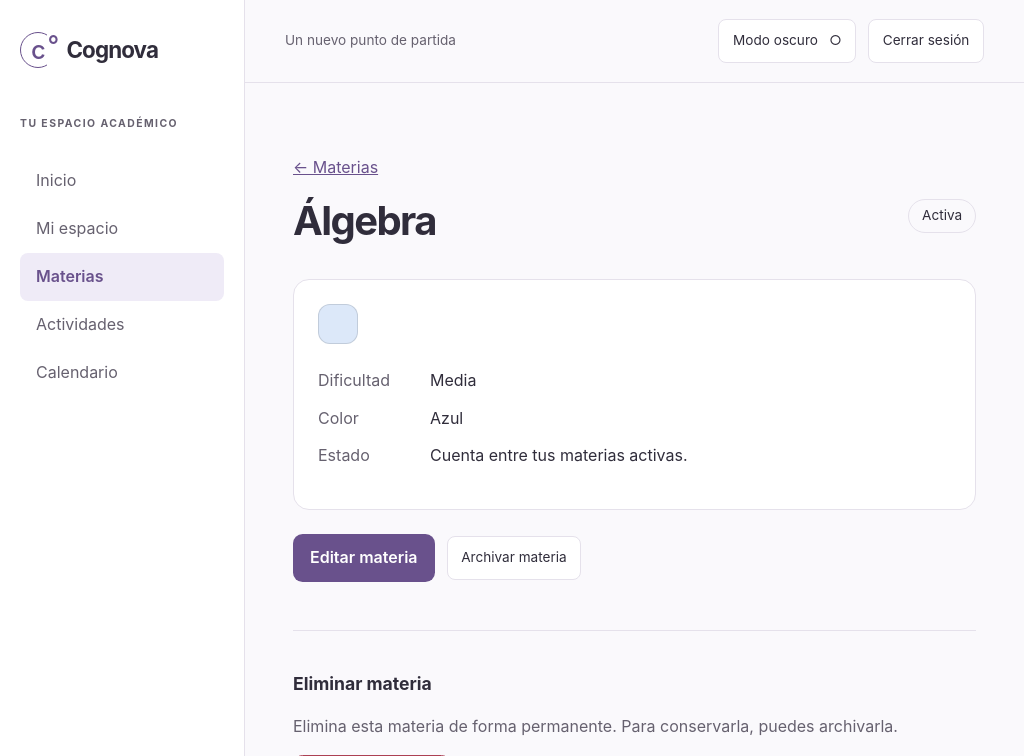
Test case: Subjects routes and state › edits, archives and reactivates from a direct detail route
The image size is (1024, 756).
Click the button "Editar materia".
click(364, 558)  # box [293,534,434,582]
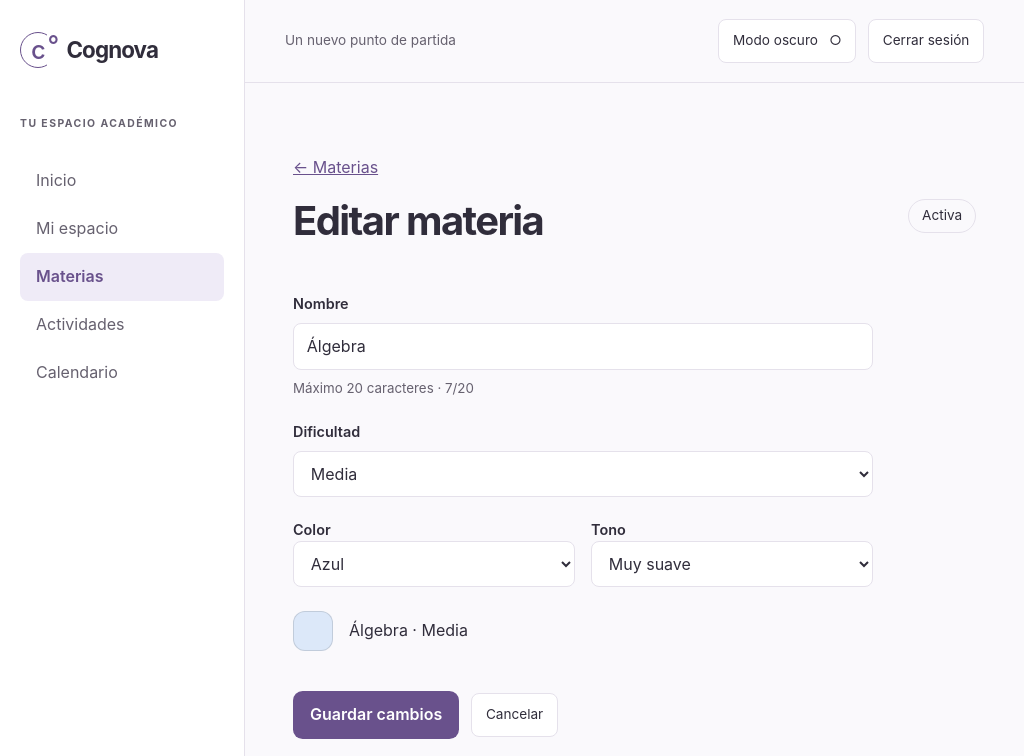
Replace the text in the field labelled "Nombre" with "Cálculo" at (583, 347), box [293,323,873,370]
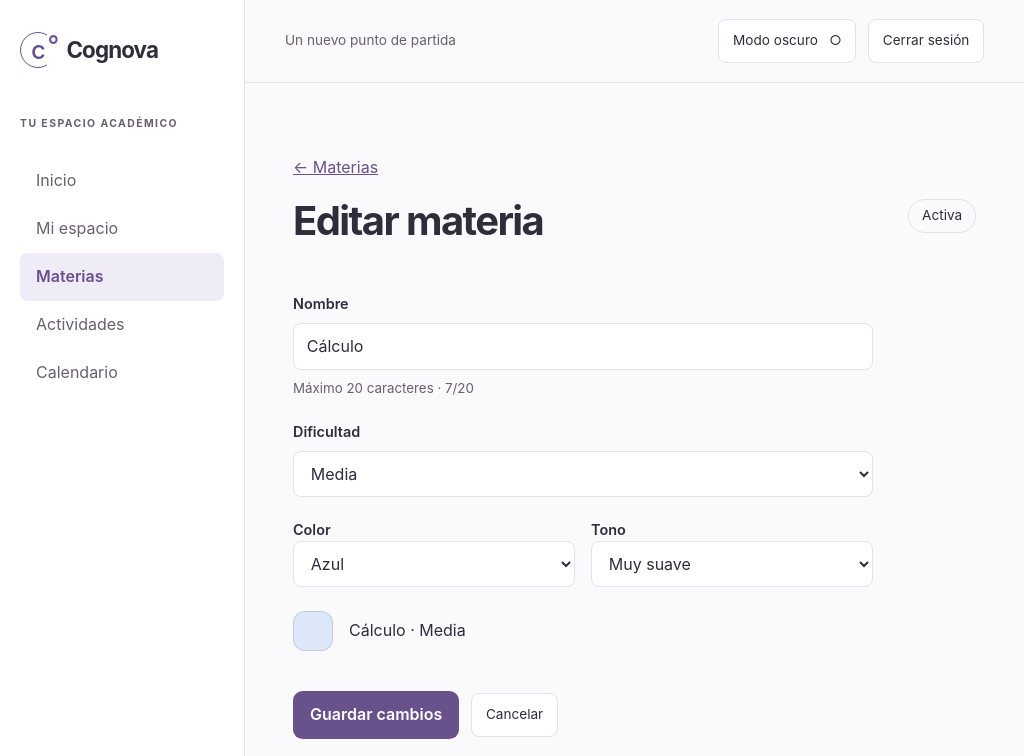
Click the button "Guardar cambios".
click(376, 715)  # box [293,691,459,739]
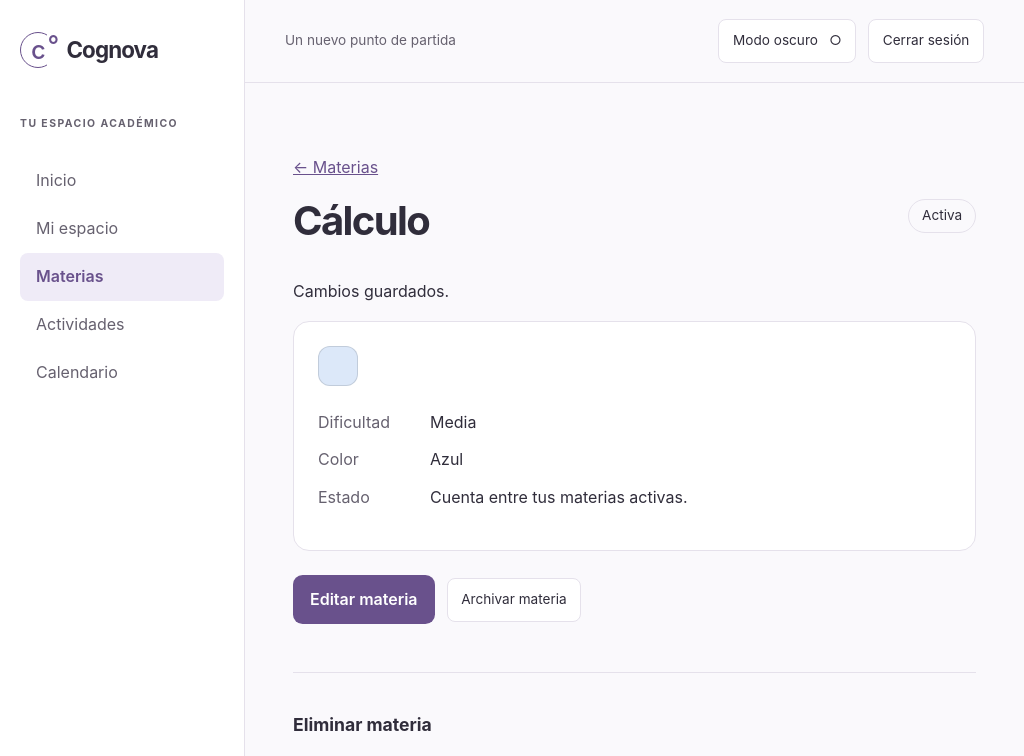
Now the text "Cambios guardados." is shown, box [293,281,449,301]
Click the button "Archivar materia".
click(514, 600)  # box [446,578,581,622]
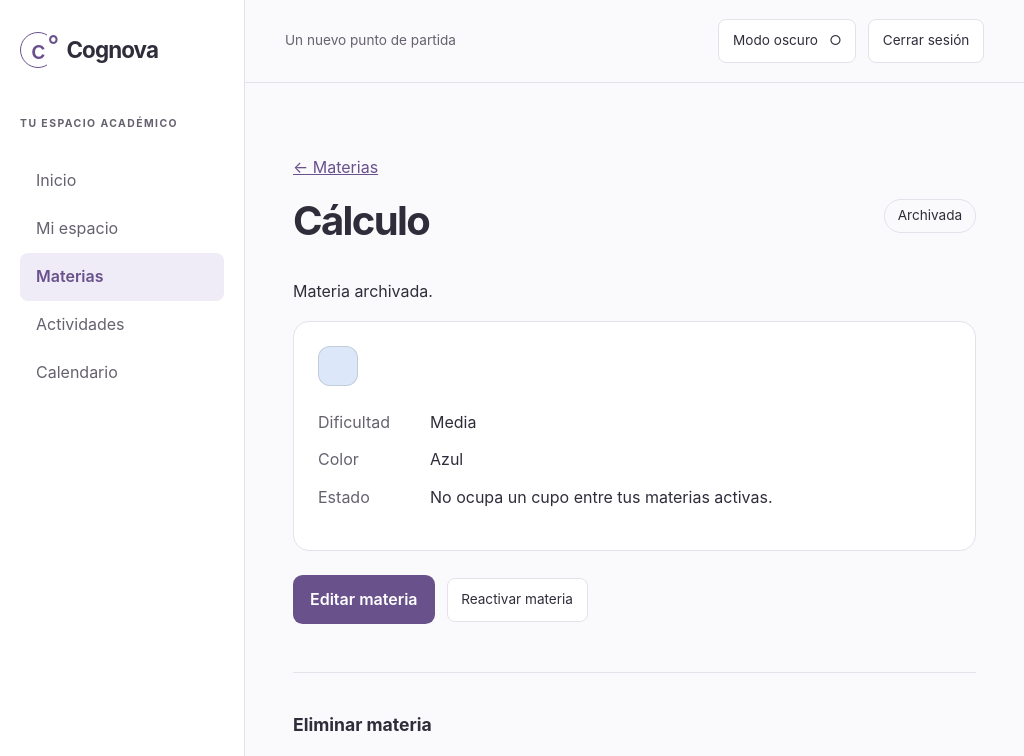
Now the text "Materia archivada." is shown, box [293,281,433,301]
Click the button "Reactivar materia".
click(517, 600)  # box [446,578,588,622]
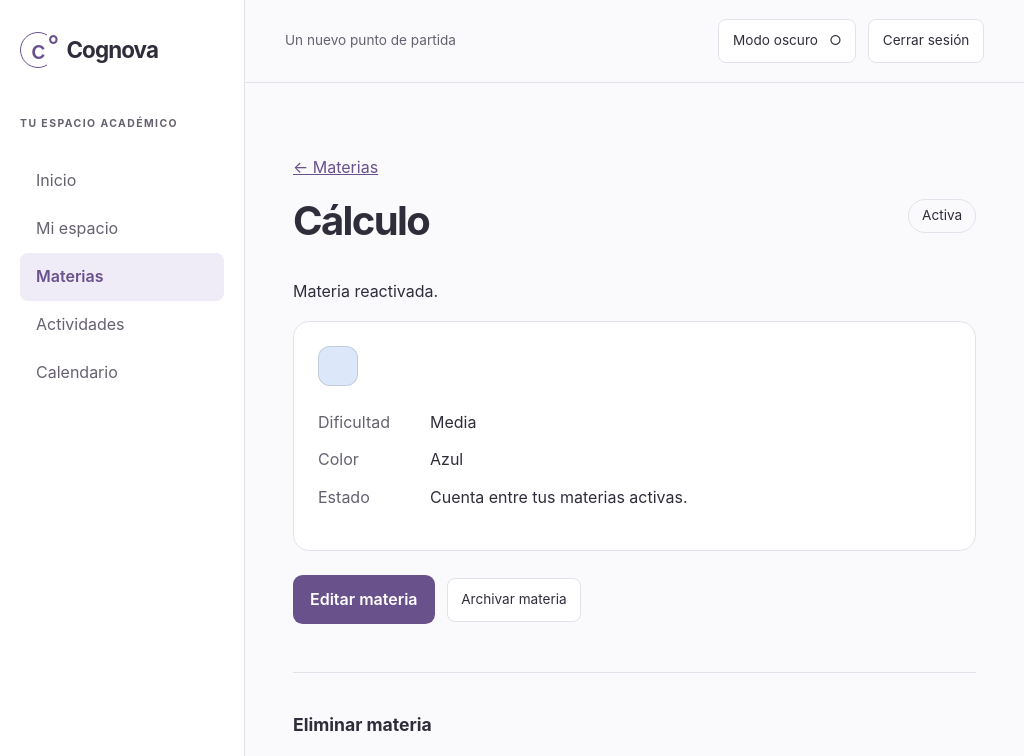
Now the text "Materia reactivada." is shown, box [293,281,438,301]
